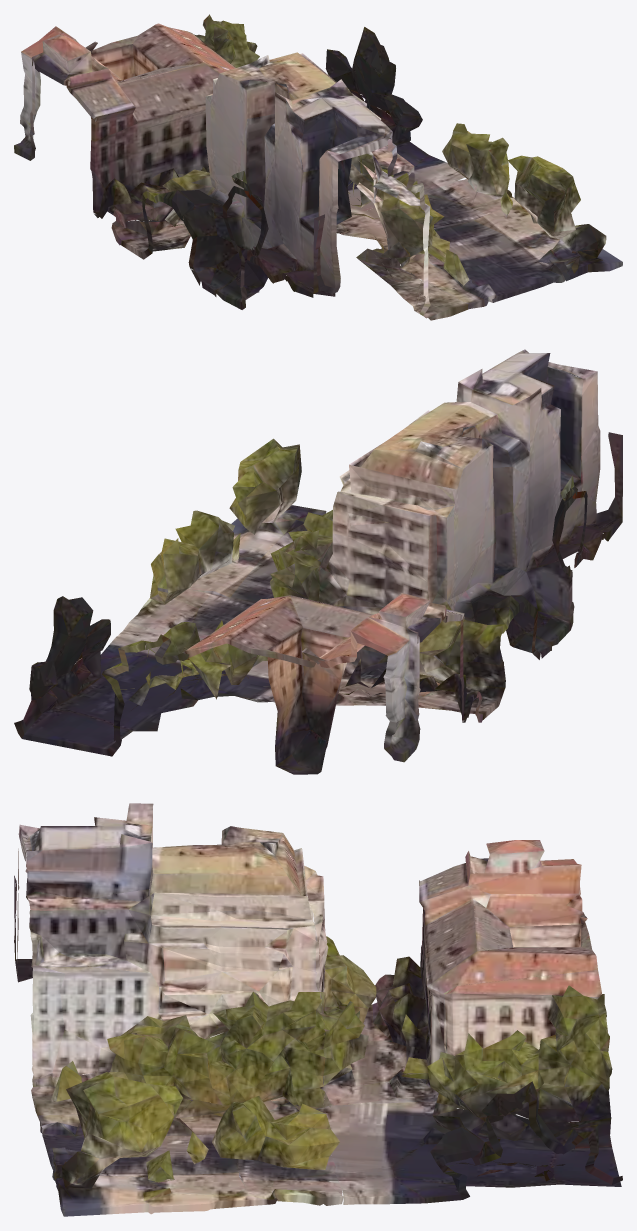
The picture shows the model from 3 angles, top to bottom: view 1: azimuth 30°, elevation 25°; view 2: azimuth 150°, elevation 25°; view 3: azimuth 270°, elevation 25°; orthographic projection. The views are drawn at different scales.
Parts seen in each view (by area): view 1: Mesh_0; view 2: Mesh_0; view 3: Mesh_0.
Boxes of the visible parts, box(x1,y1,x2,y2) form: Mesh_0: box(14, 14, 622, 320); Mesh_0: box(14, 349, 622, 774); Mesh_0: box(14, 803, 622, 1216).
Bounding box in the file's own units: 66.54 × 37.77 × 82.61.
1 material, 1 textured.
